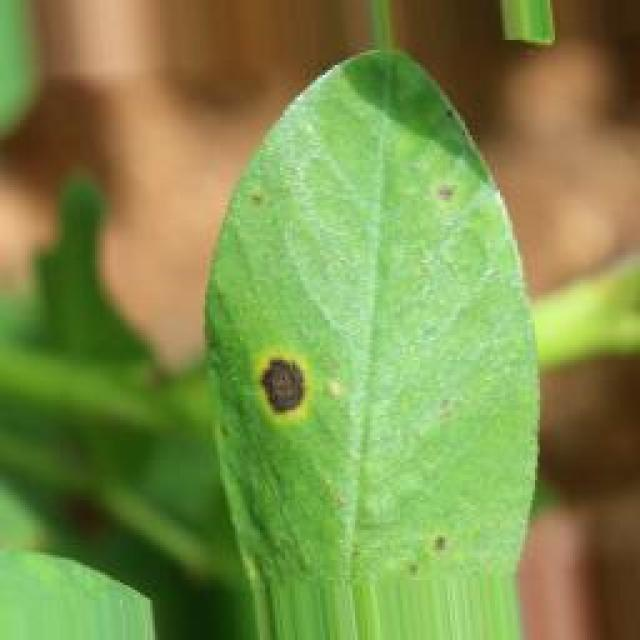Sigatoka: (230, 327, 318, 461), (390, 499, 480, 592), (404, 170, 476, 242), (238, 175, 298, 230)
